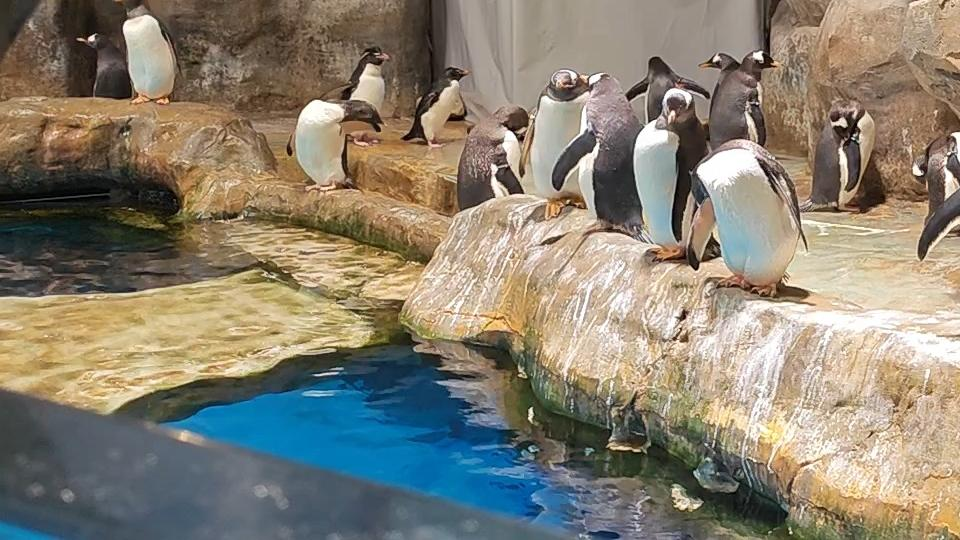Southern Rockhopper Penguin: (400, 63, 473, 151), (329, 40, 397, 123)
